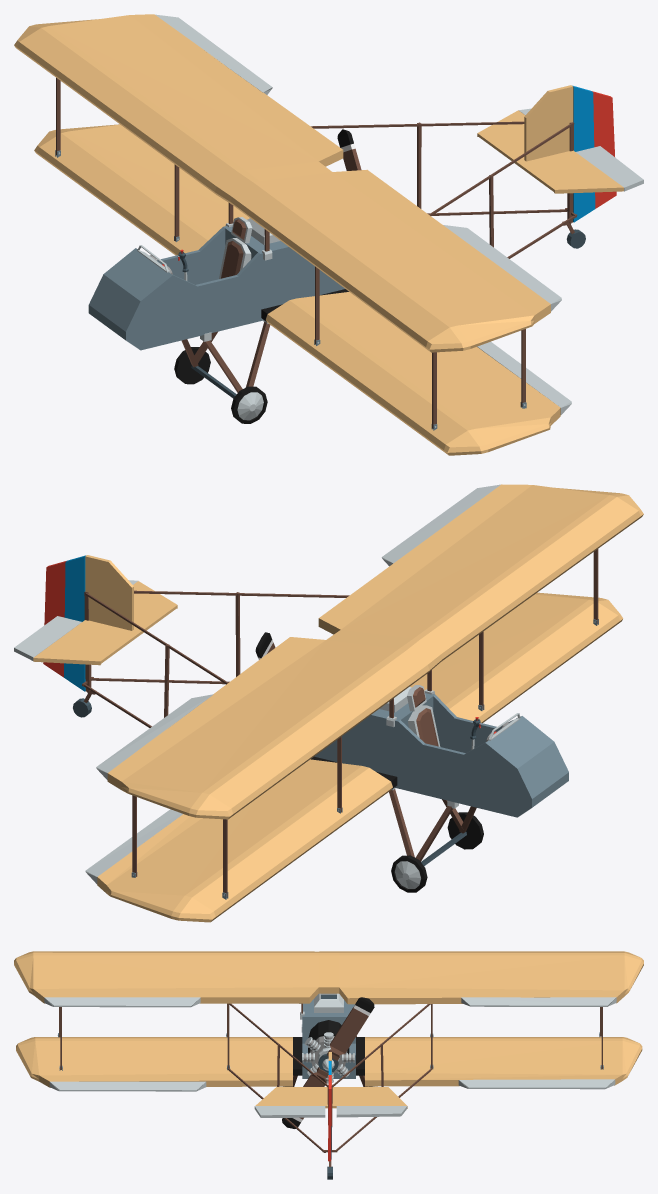
Rendered from Biplane.glb.
The picture shows the model from 3 angles, top to bottom: view 1: azimuth 30°, elevation 25°; view 2: azimuth 150°, elevation 25°; view 3: azimuth 270°, elevation 25°; orthographic projection. The views are drawn at different scales.
Parts seen in each view (by area): view 1: group900679359; view 2: group900679359; view 3: group900679359.
Part boxes in pixels (x1,y1,x2,y2): group900679359: (14, 14, 643, 455); group900679359: (14, 484, 643, 922); group900679359: (14, 951, 643, 1179).
Size of the model in its own units: 5.53 by 2.41 by 8.21.
1 material, 1 textured.
